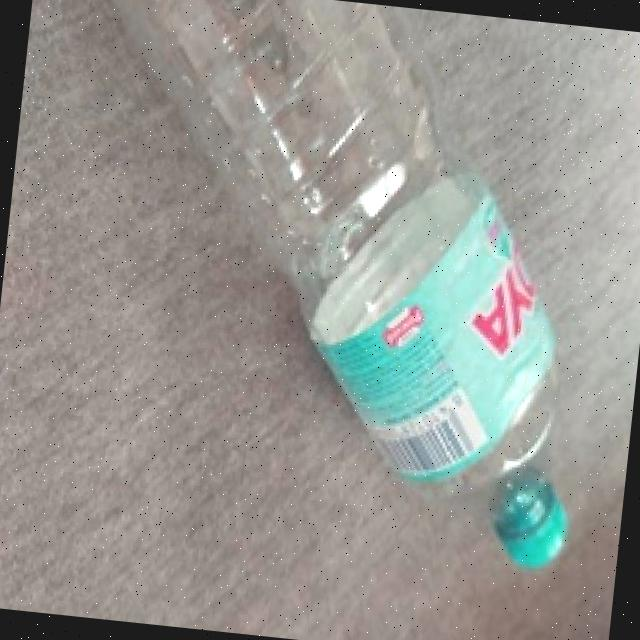bottle: (25, 0, 624, 594)
cap: (490, 500, 580, 570)
label: (292, 154, 594, 458)
